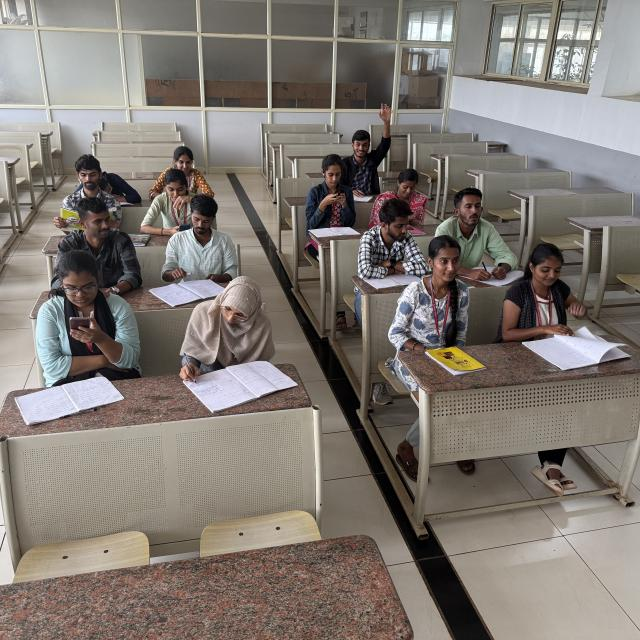Hand Rising: (341, 97, 393, 189)
Reading: (45, 152, 117, 228)
Using Phone: (39, 250, 142, 374), (306, 155, 358, 224), (378, 172, 433, 230)
Writing: (178, 279, 292, 399), (158, 196, 244, 296), (438, 186, 516, 284)
